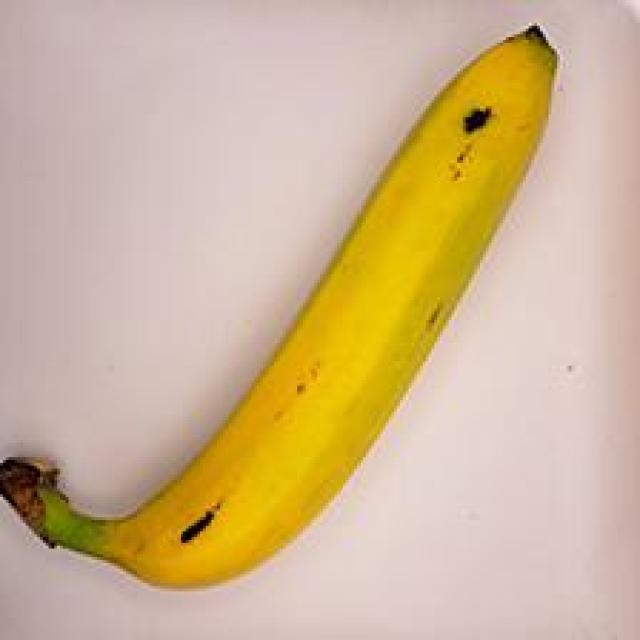ripe: (0, 7, 593, 596)
